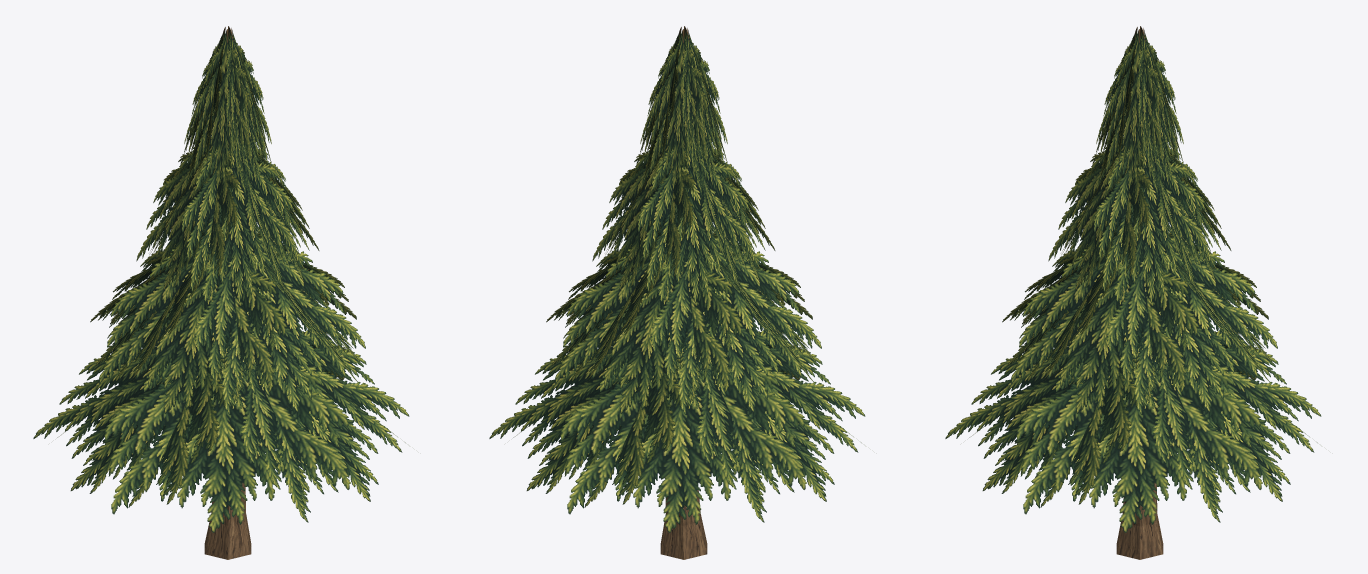
The model's file is Abete_04_Giovane.obj.
3 views of the same model, side by side, from view 1: azimuth 30°, elevation 25°; view 2: azimuth 150°, elevation 25°; view 3: azimuth 270°, elevation 25° (orthographic).
Parts seen in each view (by area): view 1: Abete_04_Giovane; view 2: Abete_04_Giovane; view 3: Abete_04_Giovane.
Part boxes in pixels (x1=…): Abete_04_Giovane: x1=33, y1=26, x2=409, y2=559; Abete_04_Giovane: x1=489, y1=26, x2=865, y2=559; Abete_04_Giovane: x1=945, y1=26, x2=1321, y2=559.
Size of the model in its own units: 1.9 by 2.8 by 2.08.
Materials: 2 (2 with a texture image).
